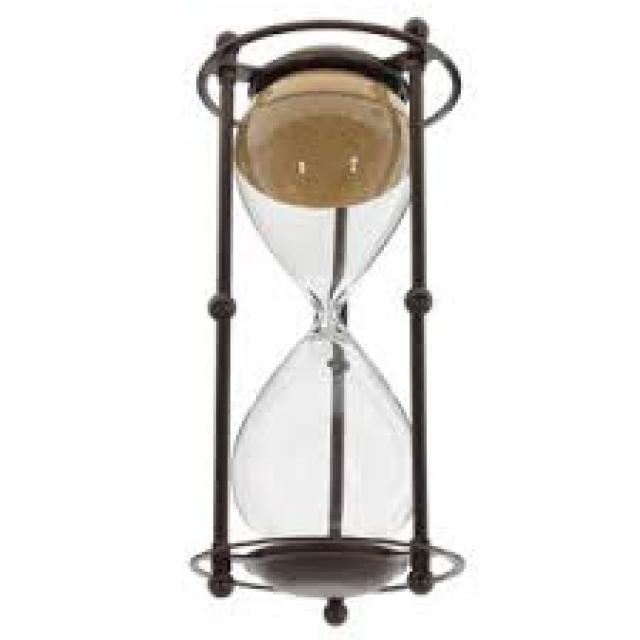clock: (173, 18, 527, 624)
